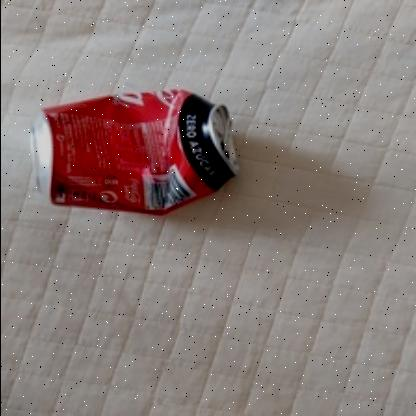Can: (30, 92, 238, 214)
